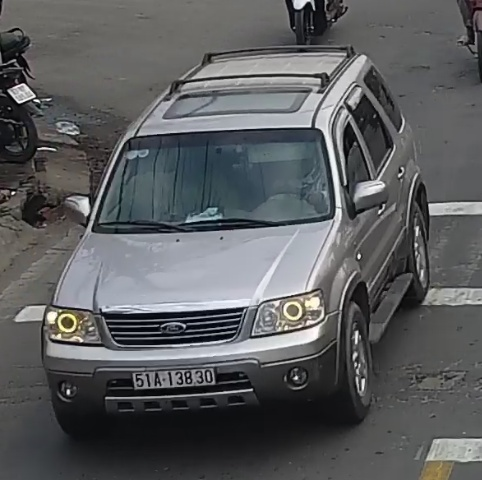vehicle plate: (129, 369, 222, 393)
